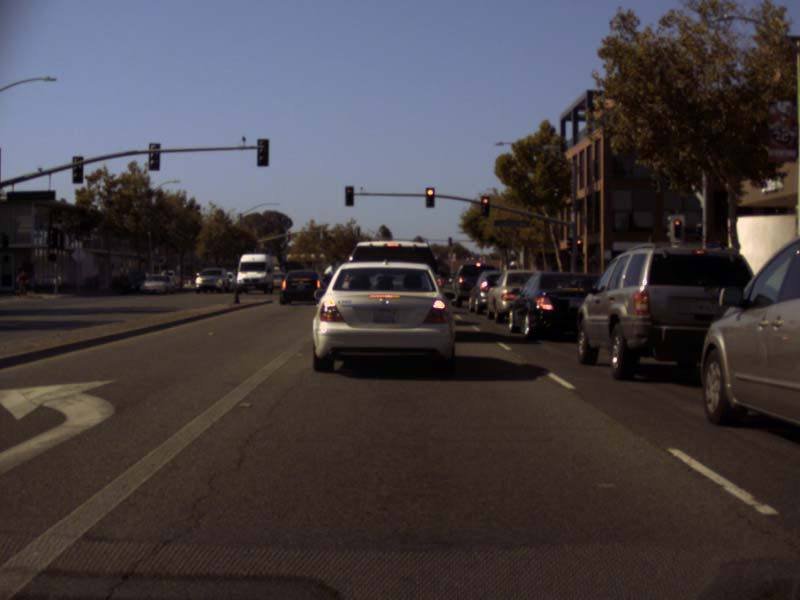Red: (669, 215, 684, 242), (344, 185, 354, 206), (425, 187, 434, 208), (481, 196, 489, 216), (576, 237, 583, 254)
